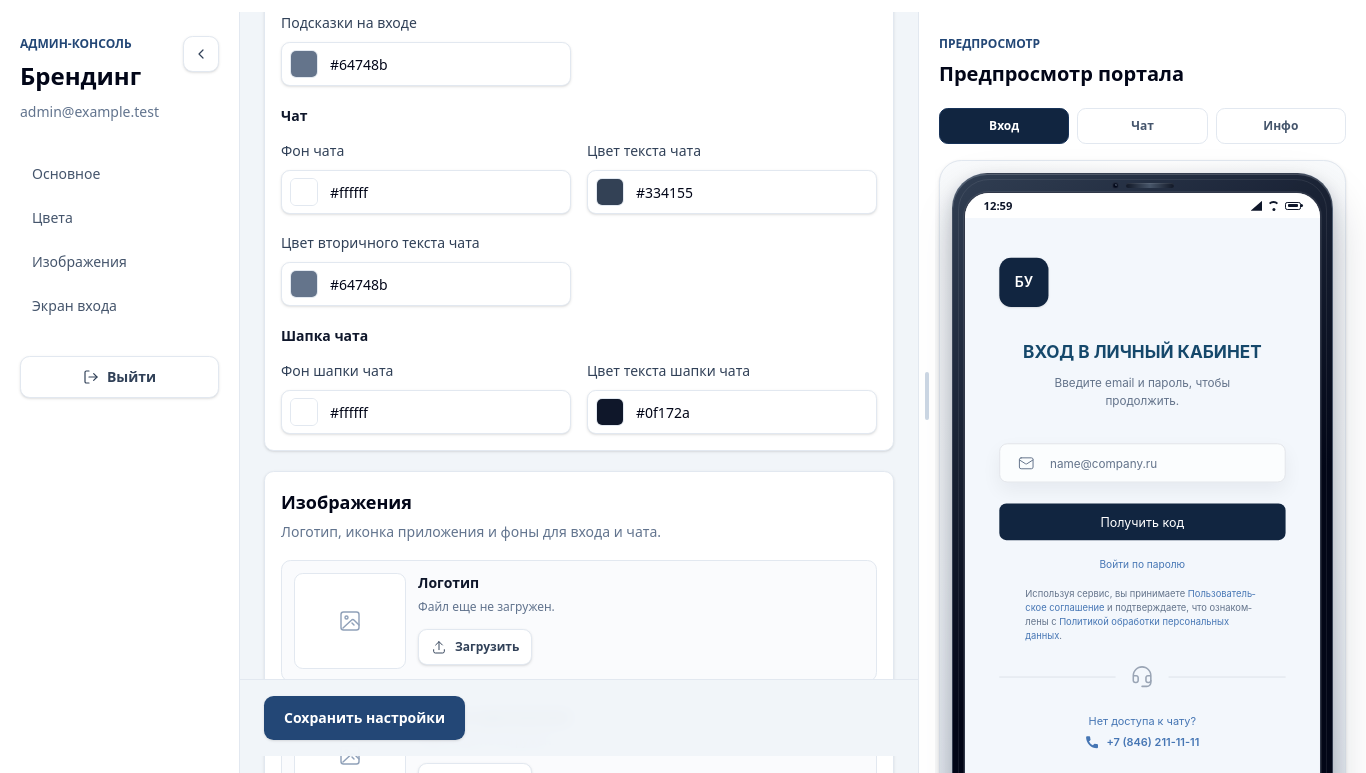
Test: AdminBrandingPage › does not overwrite manually customized chat header text when header background changes
The image size is (1366, 773).
(page scrolled)
Type "#445566" into the colour field named "Выбрать цвет текста шапки чата". click: x=732, y=396
box: [587,358,877,434]
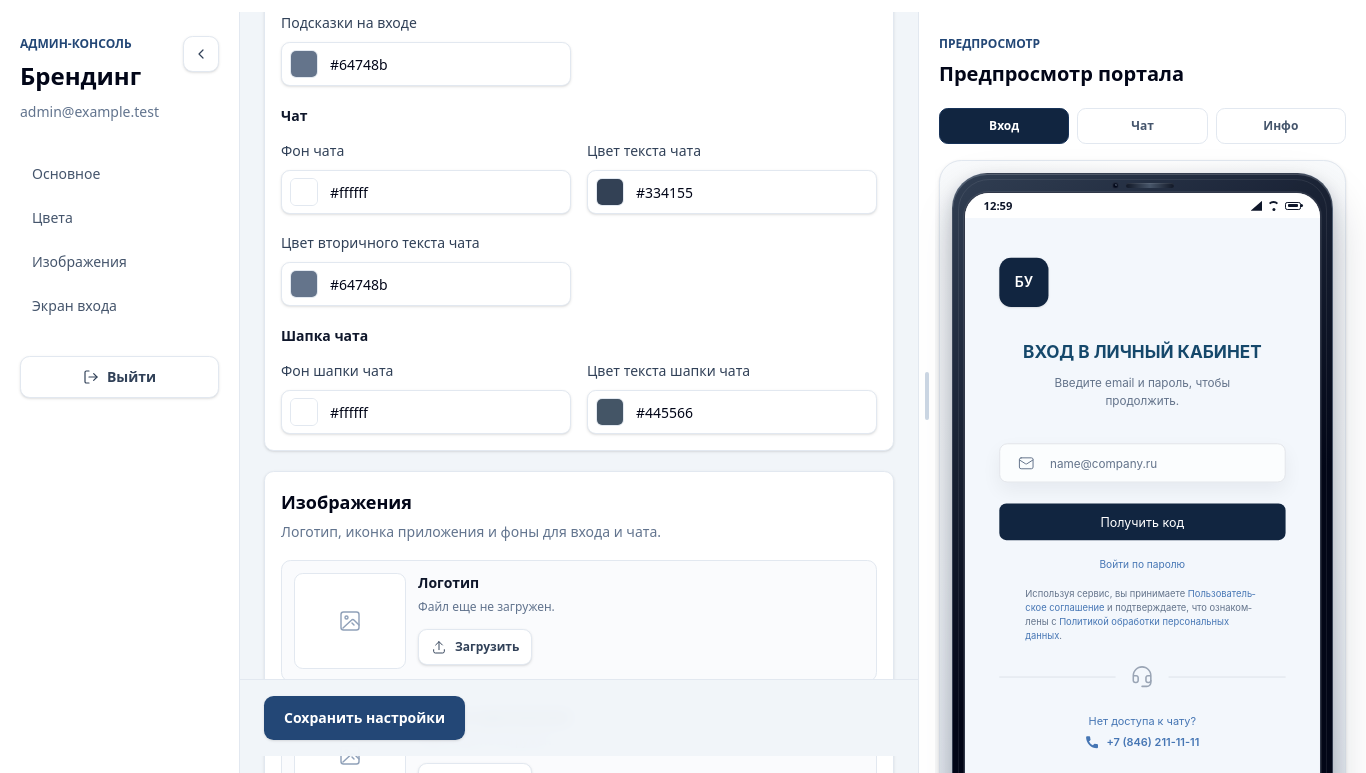
Type "#164e63" into the colour field named "Выбрать фон шапки чата". click: x=426, y=396
box: [281,358,571,434]
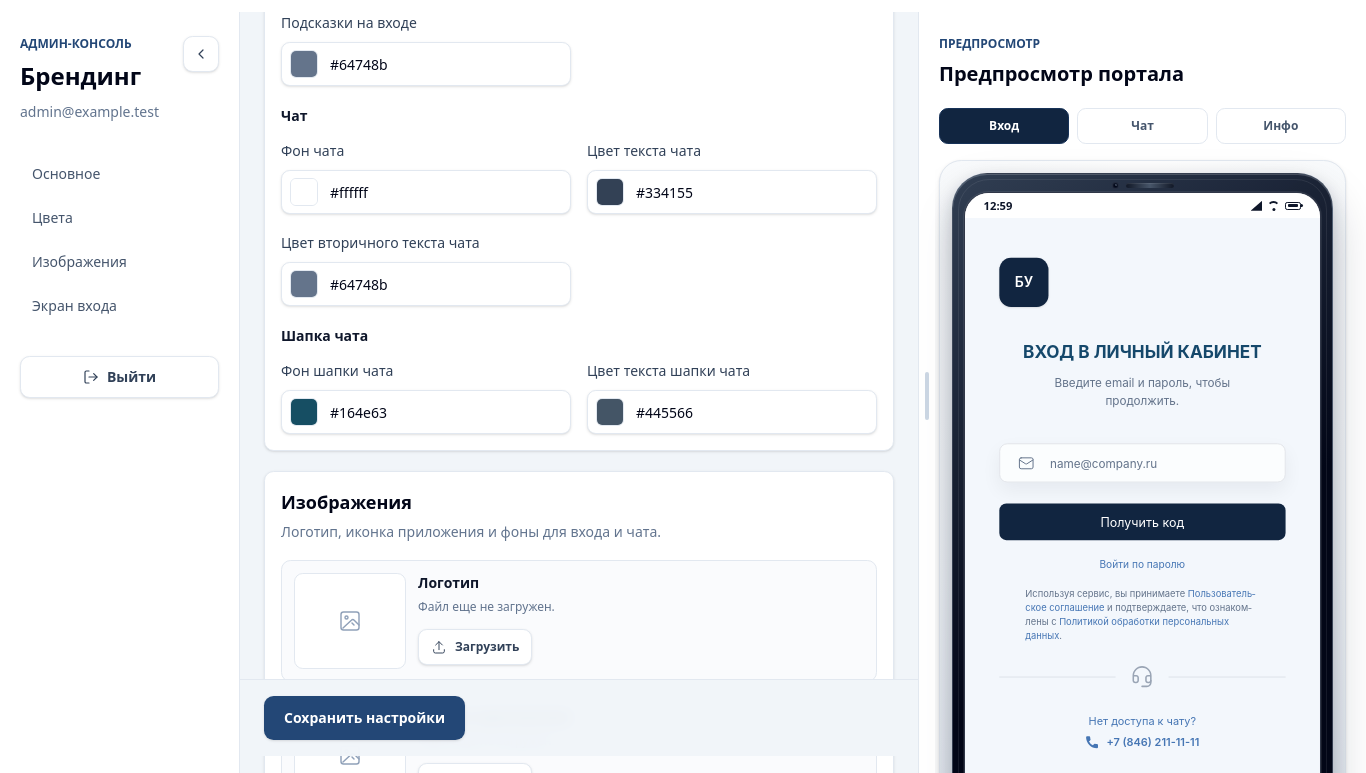
Result: the field labelled "Цвет текста шапки чата" holds "#445566" at [632,391,868,433]
Result: the field labelled "Фон шапки чата" holds "#164e63" at [326,391,562,433]
